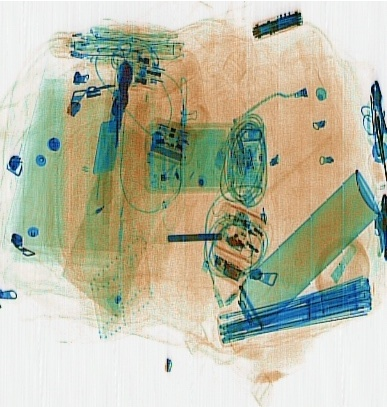pressure: (212, 168, 380, 356)
